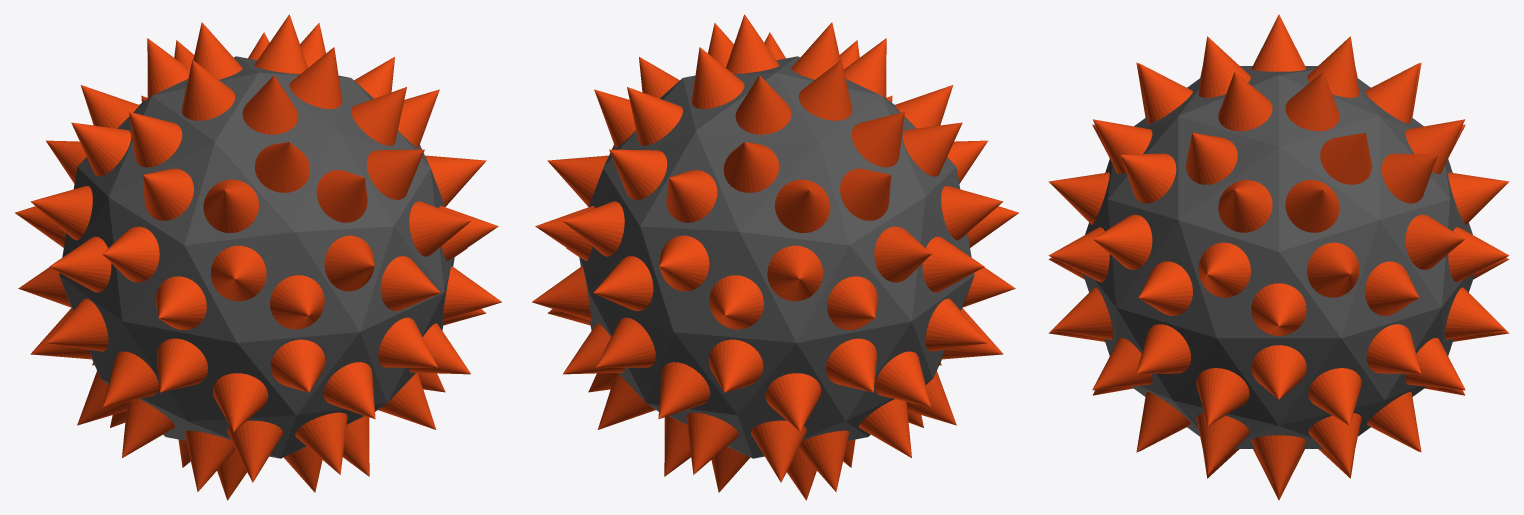
Rendered from FisheyeBoss3.fbx.
3 renders of one model, left to right at view 1: azimuth 30°, elevation 25°; view 2: azimuth 150°, elevation 25°; view 3: azimuth 270°, elevation 25°, orthographic.
Visible parts, largest first — view 1: Icosphere, Icosphere|Cone|Dupli|44, Icosphere|Cone|Dupli|45, Icosphere|Cone|Dupli|16, Icosphere|Cone|Dupli|46, Icosphere|Cone|Dupli|56, Icosphere|Cone|Dupli|30, Icosphere|Cone|Dupli|31, Icosphere|Cone|Dupli|11, Icosphere|Cone|Dupli|28, Icosphere|Cone|Dupli|43, Icosphere|Cone|Dupli|57 (+40 smaller); view 2: Icosphere, Icosphere|Cone|Dupli|40, Icosphere|Cone|Dupli|39, Icosphere|Cone|Dupli|25, Icosphere|Cone|Dupli|38, Icosphere|Cone|Dupli|24, Icosphere|Cone|Dupli|53, Icosphere|Cone|Dupli|18, Icosphere|Cone|Dupli|13, Icosphere|Cone|Dupli|17, Icosphere|Cone|Dupli|41, Icosphere|Cone|Dupli|54 (+40 smaller); view 3: Icosphere, Icosphere|Cone|Dupli|62, Icosphere|Cone|Dupli|49, Icosphere|Cone|Dupli|35, Icosphere|Cone|Dupli|19, Icosphere|Cone|Dupli|34, Icosphere|Cone|Dupli|63, Icosphere|Cone|Dupli|33, Icosphere|Cone|Dupli|21, Icosphere|Cone|Dupli|36, Icosphere|Cone|Dupli|48, Icosphere|Cone|Dupli|5 (+29 smaller).
Part boxes in pixels (bbox=[...]): Icosphere: bbox=[59, 56, 454, 458]; Icosphere|Cone|Dupli|44: bbox=[211, 245, 266, 301]; Icosphere|Cone|Dupli|45: bbox=[270, 275, 324, 329]; Icosphere|Cone|Dupli|16: bbox=[203, 179, 258, 232]; Icosphere|Cone|Dupli|46: bbox=[324, 235, 374, 291]; Icosphere|Cone|Dupli|56: bbox=[155, 276, 206, 330]; Icosphere|Cone|Dupli|30: bbox=[255, 142, 309, 192]; Icosphere|Cone|Dupli|31: bbox=[316, 170, 367, 222]; Icosphere|Cone|Dupli|11: bbox=[270, 339, 325, 392]; Icosphere|Cone|Dupli|28: bbox=[143, 168, 193, 220]; Icosphere|Cone|Dupli|43: bbox=[102, 226, 159, 282]; Icosphere|Cone|Dupli|57: bbox=[157, 338, 207, 392]; Icosphere: bbox=[579, 56, 974, 458]; Icosphere|Cone|Dupli|40: bbox=[767, 245, 822, 301]; Icosphere|Cone|Dupli|39: bbox=[709, 275, 763, 329]; Icosphere|Cone|Dupli|25: bbox=[775, 179, 830, 232]; Icosphere|Cone|Dupli|38: bbox=[659, 235, 709, 291]; Icosphere|Cone|Dupli|24: bbox=[723, 142, 779, 192]; Icosphere|Cone|Dupli|53: bbox=[827, 276, 878, 330]; Icosphere|Cone|Dupli|18: bbox=[666, 170, 717, 222]; Icosphere|Cone|Dupli|13: bbox=[708, 339, 763, 392]; Icosphere|Cone|Dupli|17: bbox=[840, 168, 890, 220]; Icosphere|Cone|Dupli|41: bbox=[874, 226, 931, 282]; Icosphere|Cone|Dupli|54: bbox=[826, 338, 876, 392]; Icosphere: bbox=[1083, 66, 1474, 448]; Icosphere|Cone|Dupli|62: bbox=[1251, 283, 1306, 335]; Icosphere|Cone|Dupli|49: bbox=[1198, 242, 1250, 297]; Icosphere|Cone|Dupli|35: bbox=[1307, 242, 1359, 297]; Icosphere|Cone|Dupli|19: bbox=[1285, 180, 1339, 232]; Icosphere|Cone|Dupli|34: bbox=[1218, 180, 1272, 232]; Icosphere|Cone|Dupli|63: bbox=[1251, 345, 1306, 399]; Icosphere|Cone|Dupli|33: bbox=[1186, 132, 1237, 184]; Icosphere|Cone|Dupli|21: bbox=[1320, 132, 1371, 184]; Icosphere|Cone|Dupli|36: bbox=[1365, 261, 1419, 315]; Icosphere|Cone|Dupli|48: bbox=[1138, 261, 1192, 315]; Icosphere|Cone|Dupli|5: bbox=[1196, 368, 1249, 425].
Bounding box in the file's own units: 241 × 232 × 229.
